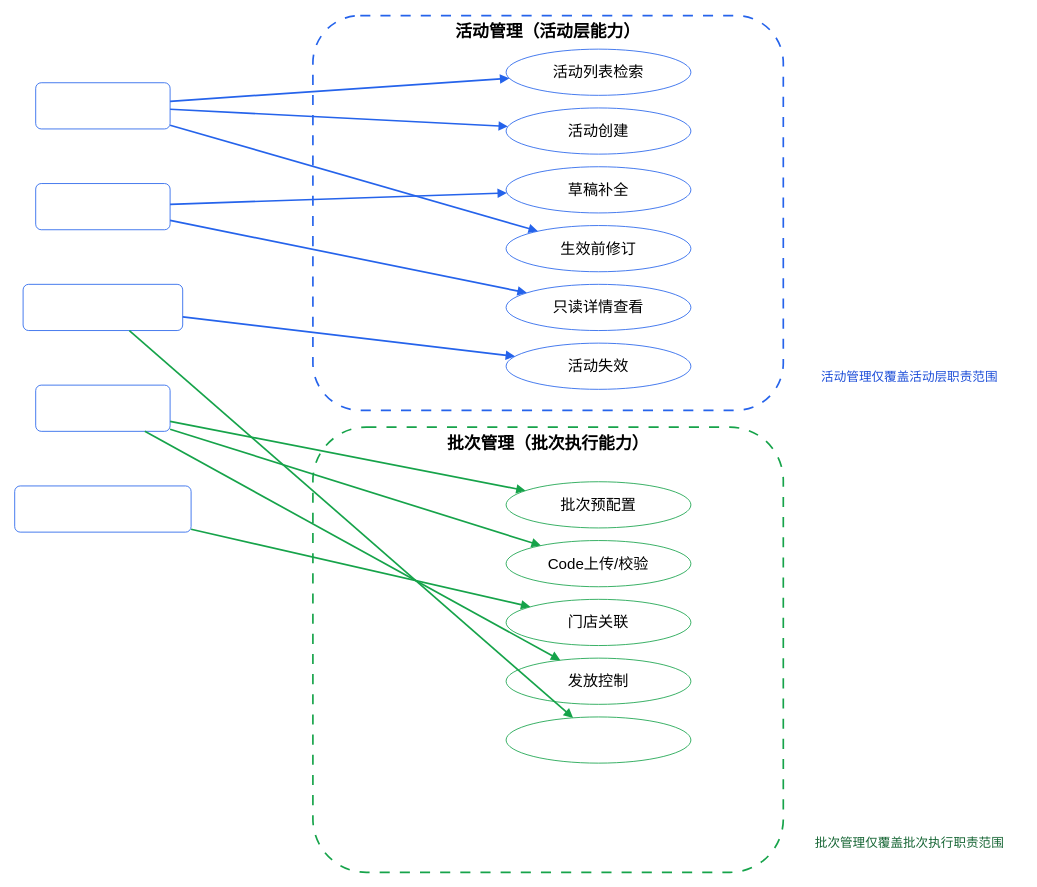
The diagram is 1037 pixels wide and 887 high, and some of its shapes have lost their labels. Here are the shapes that lost their labels. From the top down, the centre of each, then its label:
At (102,105): "产品经理".
At (102,206): "运营人员".
At (102,307): "审核/管理角色".
At (102,407): "执行角色".
At (102,508): "门店/区域协同角色".
At (598,739): "批次状态管理".
